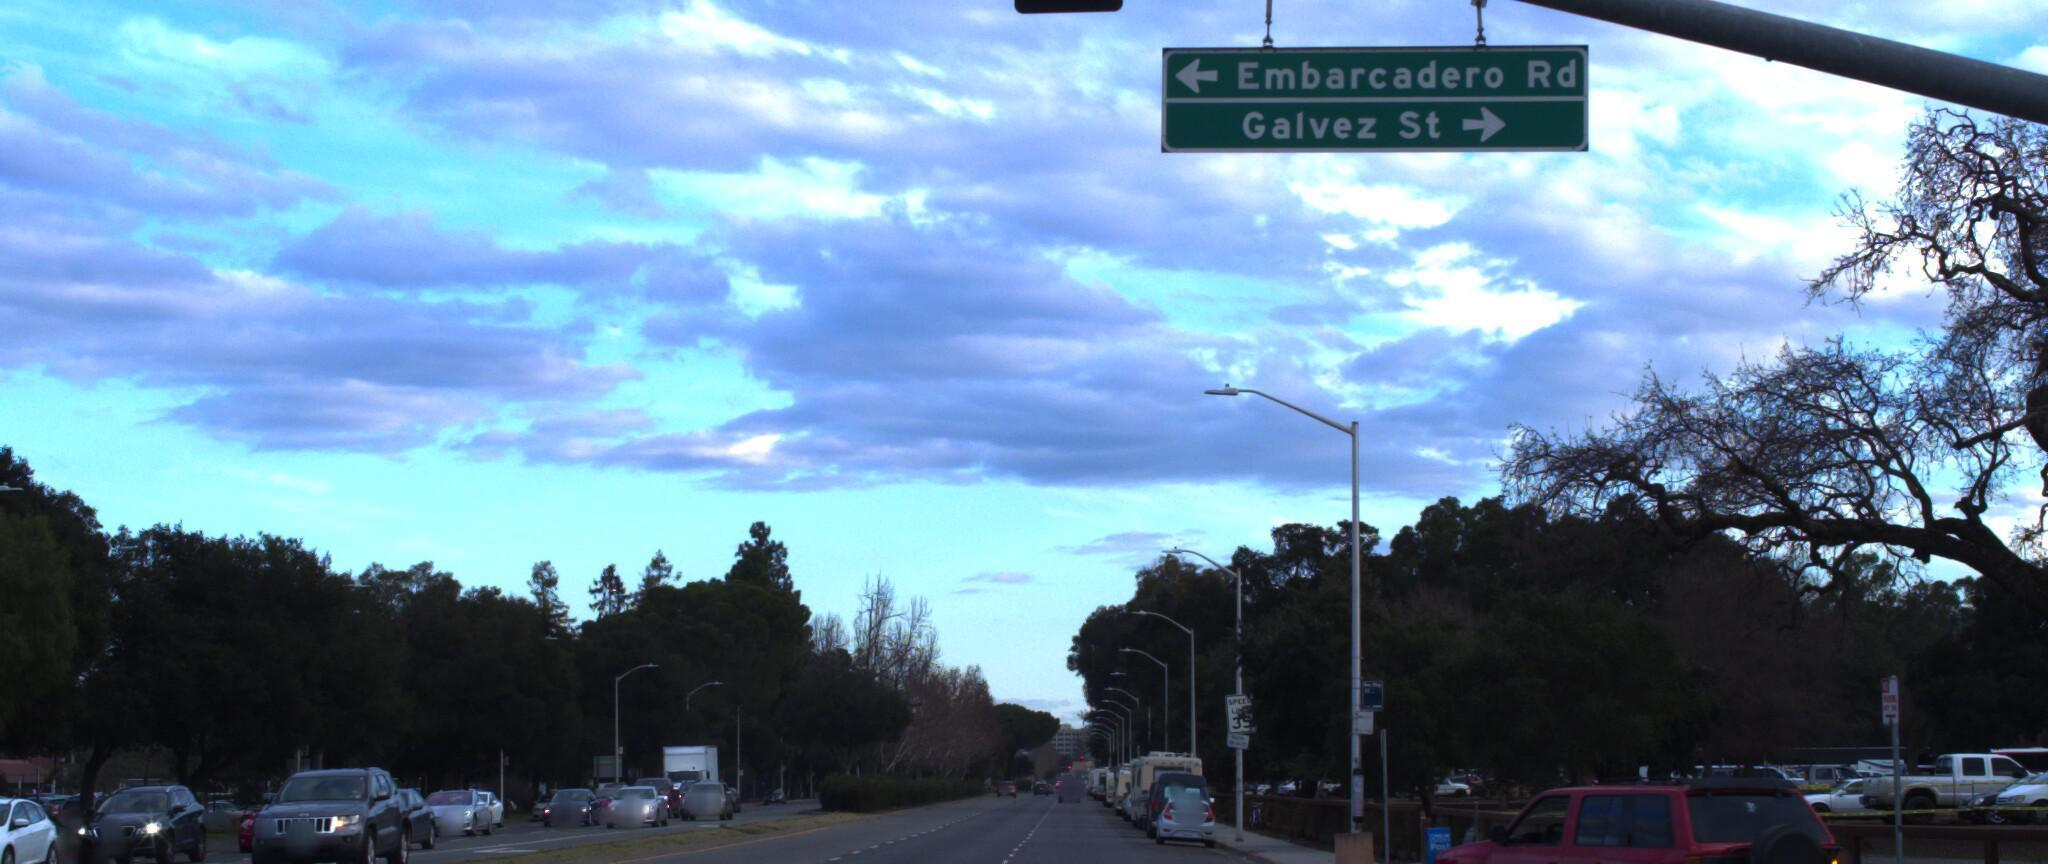car: (1390, 760, 1882, 864), (236, 761, 415, 864), (72, 788, 219, 864), (0, 777, 67, 864)
